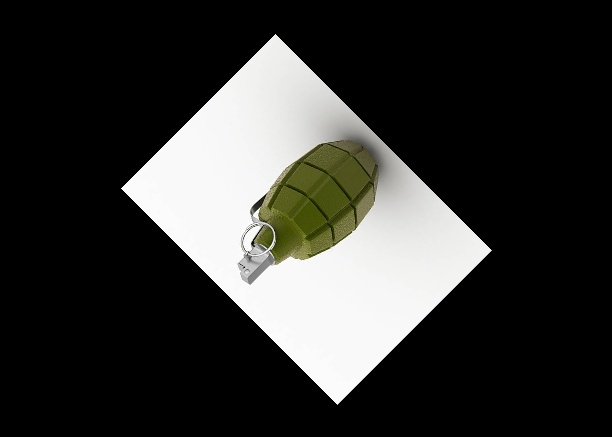e1: (233, 141, 379, 283)
